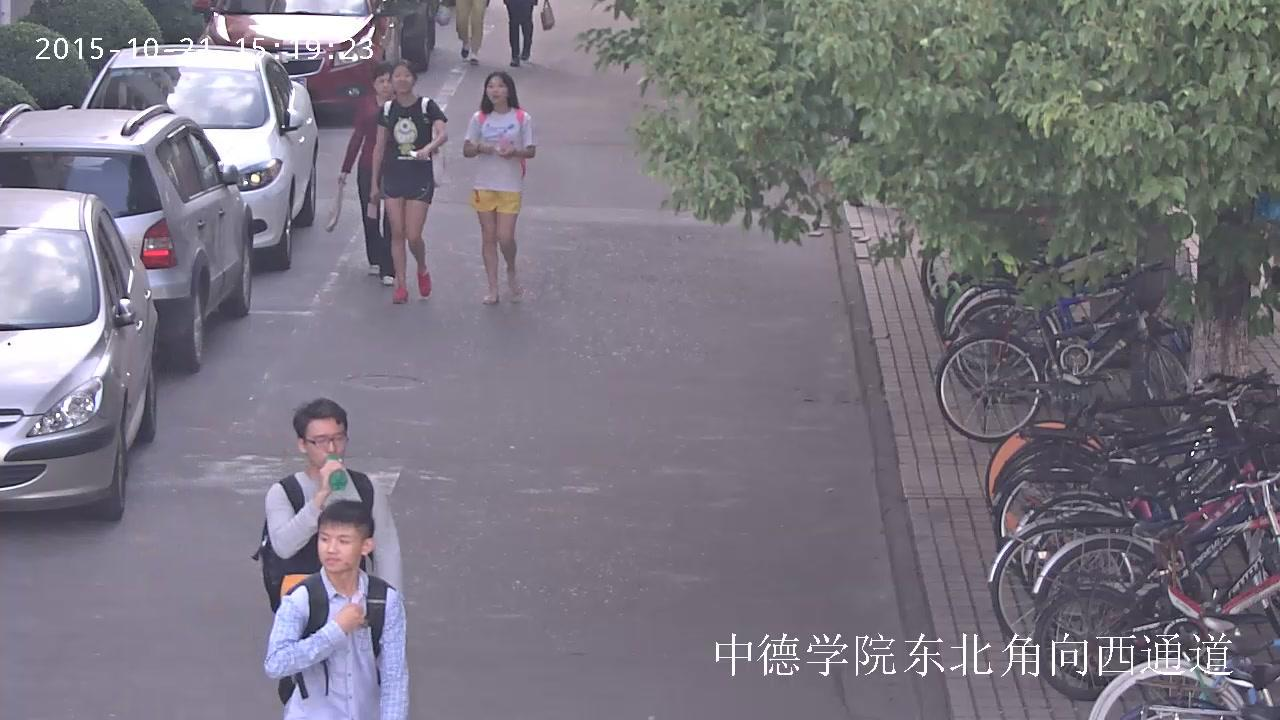person: (249, 397, 405, 612), (259, 500, 410, 720), (369, 60, 447, 305), (324, 61, 401, 286), (462, 70, 536, 303), (503, 0, 554, 66), (455, 0, 489, 65)
